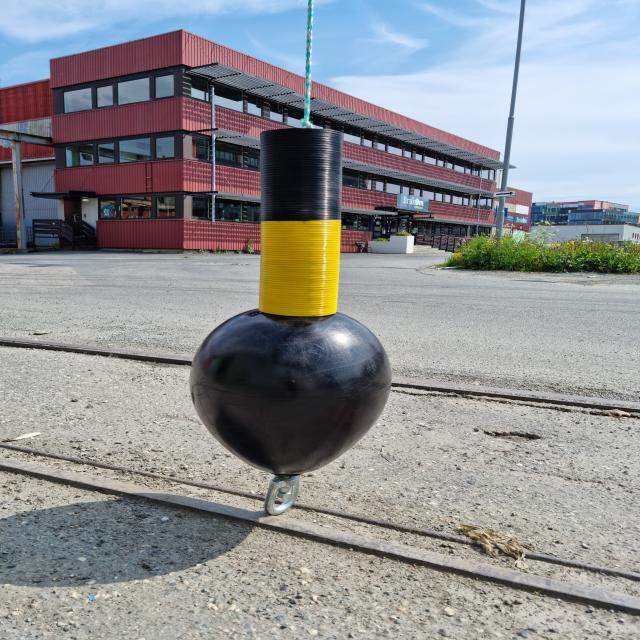east: (189, 130, 392, 473)
